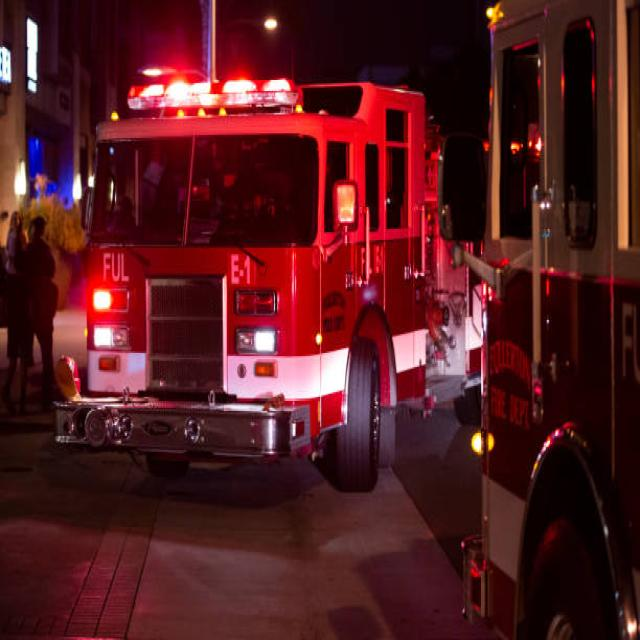emergency: (58, 75, 425, 490)
